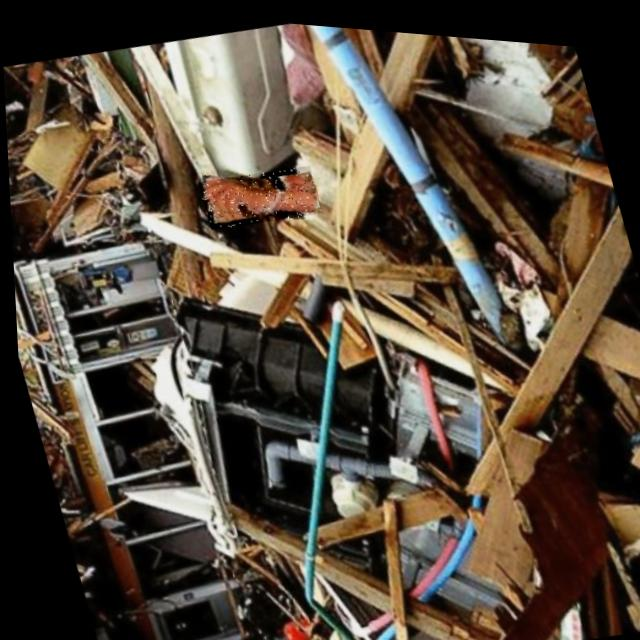Person in Rubble: (195, 152, 322, 233)
